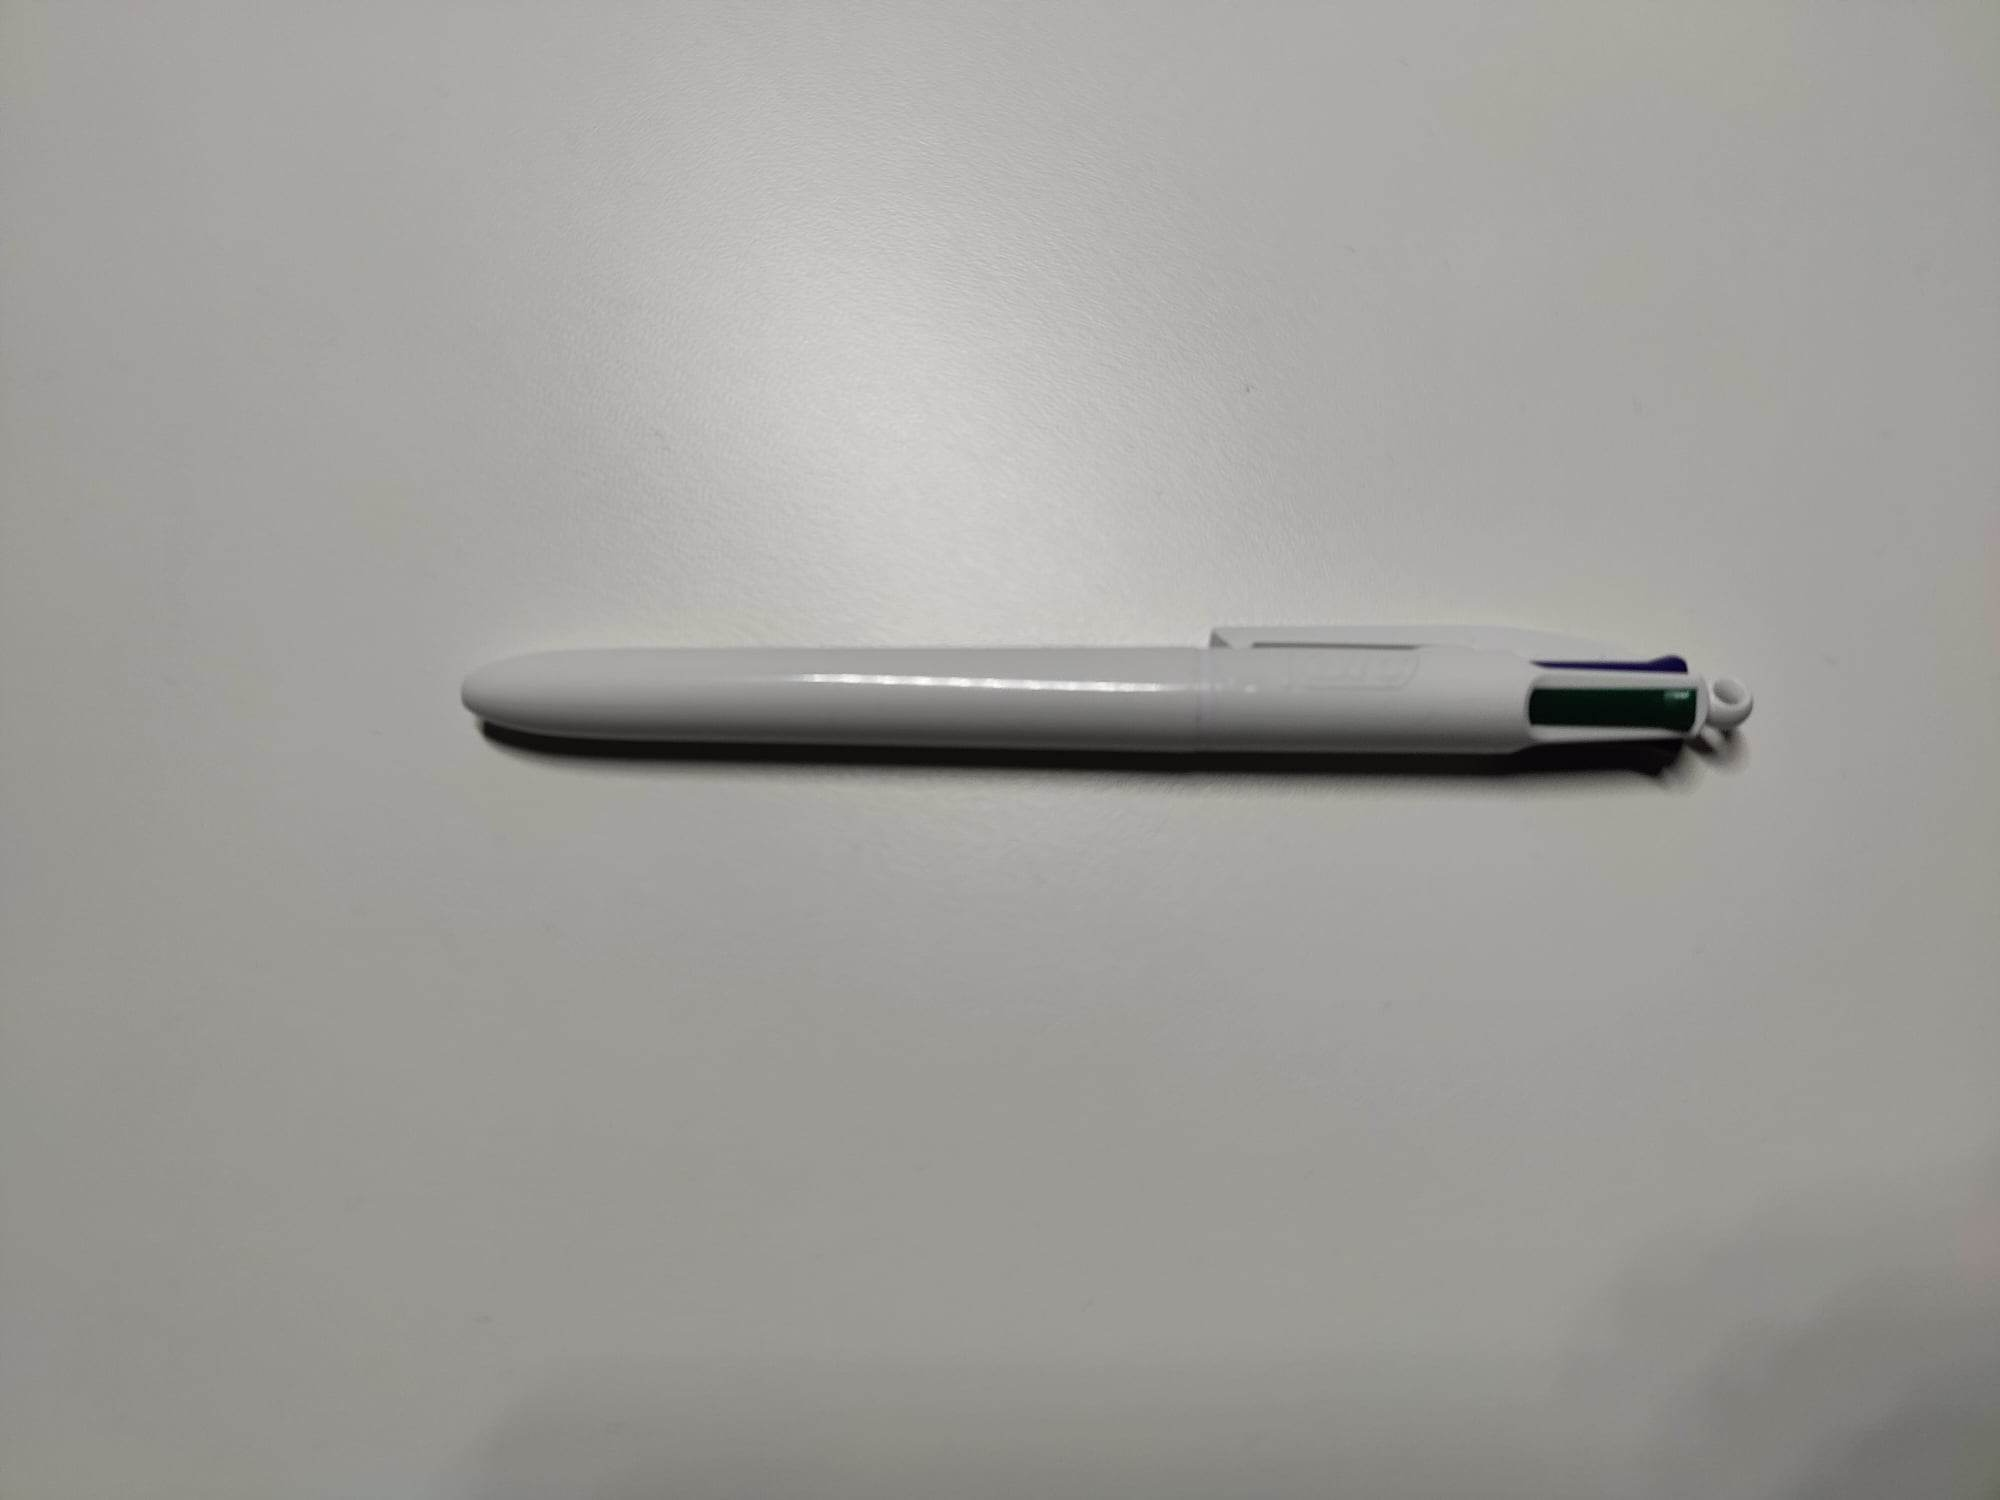Pen: (406, 578, 1816, 852)
